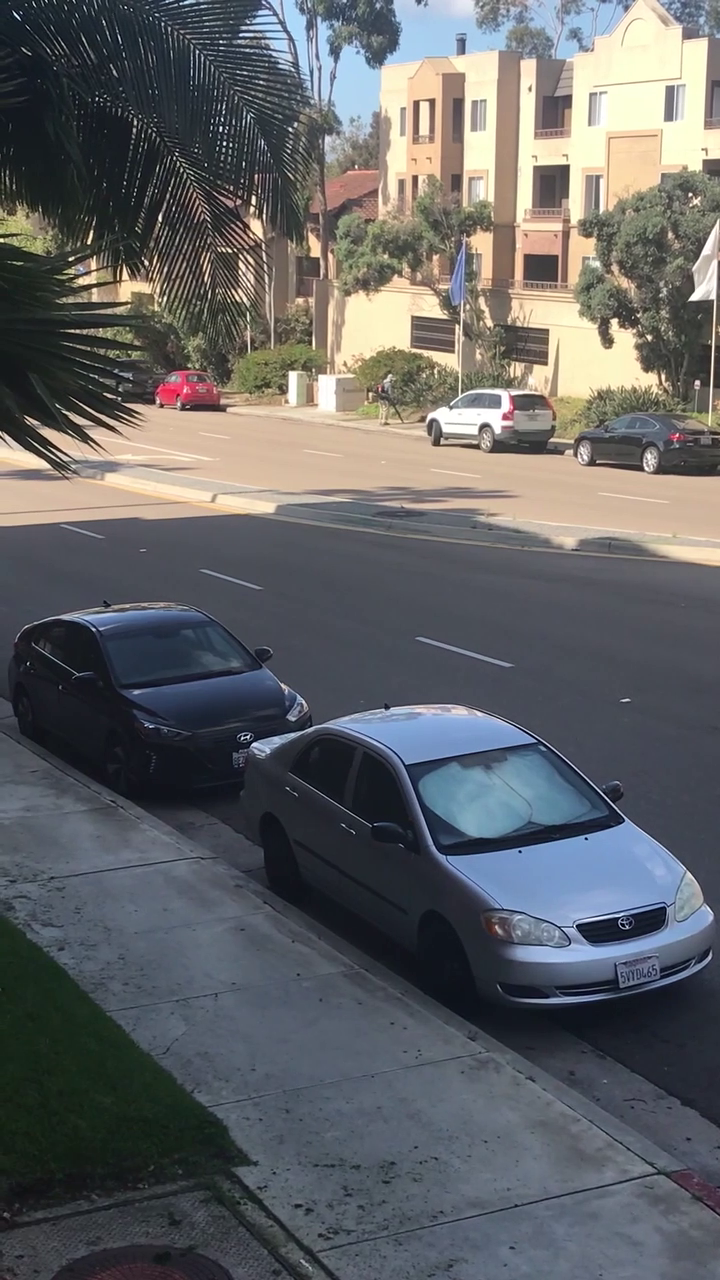car: (221, 702, 693, 1019), (11, 611, 311, 793)
